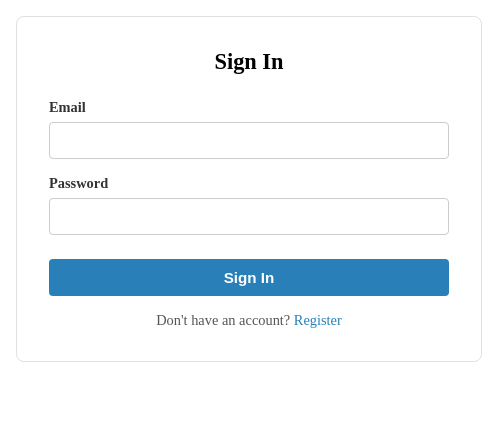
Scenario: LoginPage › shows generic error for network failure
In the field labelled "Email": x=249, y=140 [49,122,449,159], type "test@example.com"
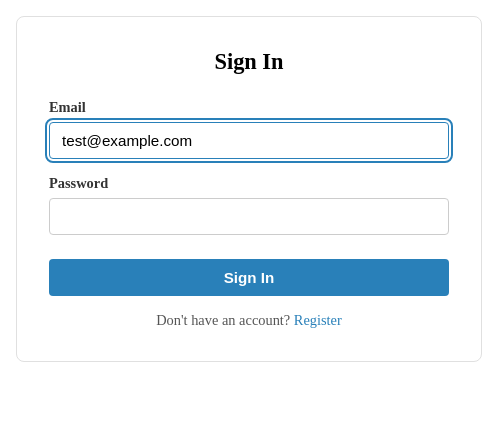
In the password field labelled "Password": x=249, y=216 [49,198,449,235], type "password123"
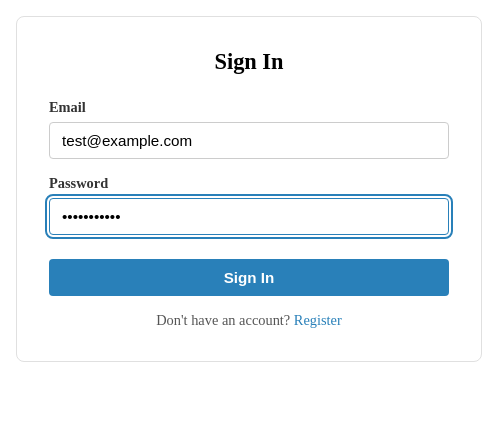
Click the button "Sign In": x=249, y=278 [49,259,449,296]
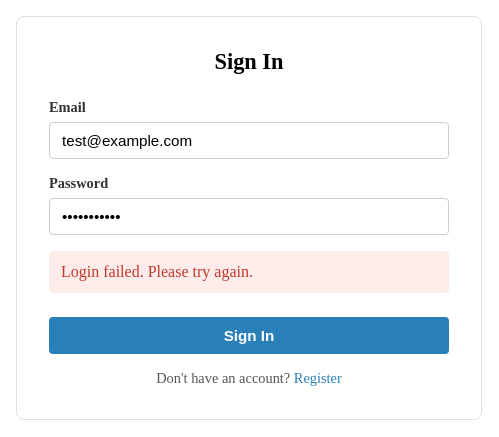
Expected: the message reads "Login failed. Please try again.", [61,263,253,280]
